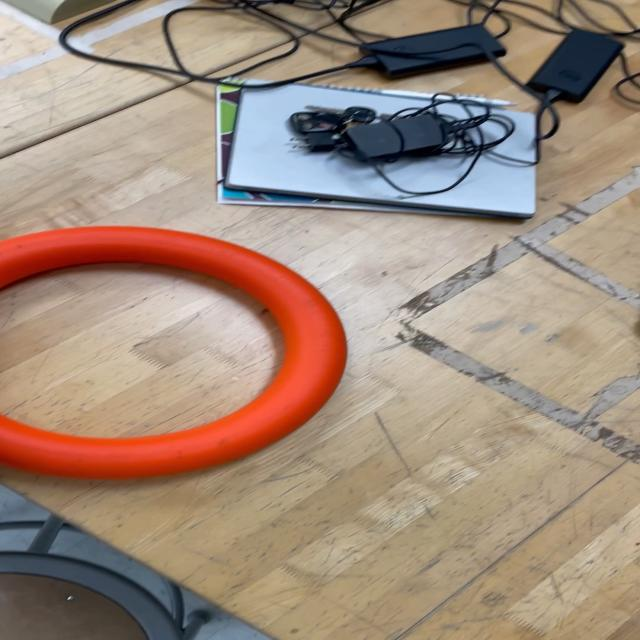note: (0, 225, 351, 482)
